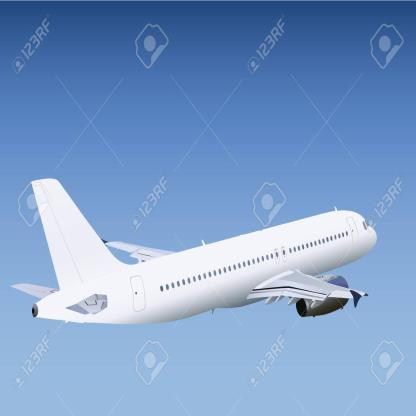CIV_Plane: (10, 174, 383, 333)
